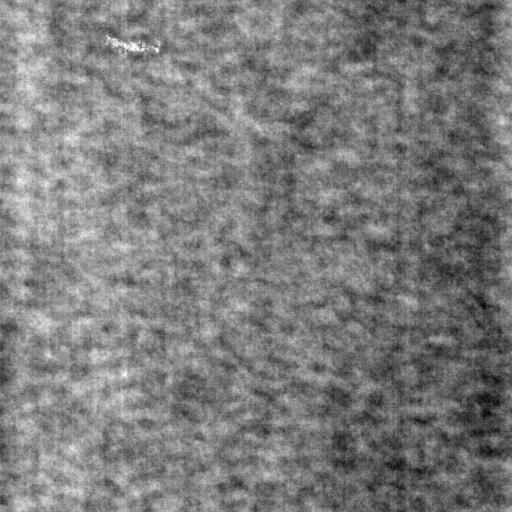DefectTypeA: (100, 36, 165, 62)
